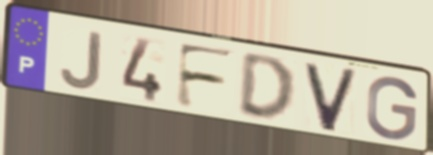4: (119, 35, 167, 104)
D: (235, 53, 298, 125)
F: (173, 41, 239, 112)
G: (364, 74, 421, 143)
J: (58, 29, 105, 92)
V: (302, 61, 360, 135)
